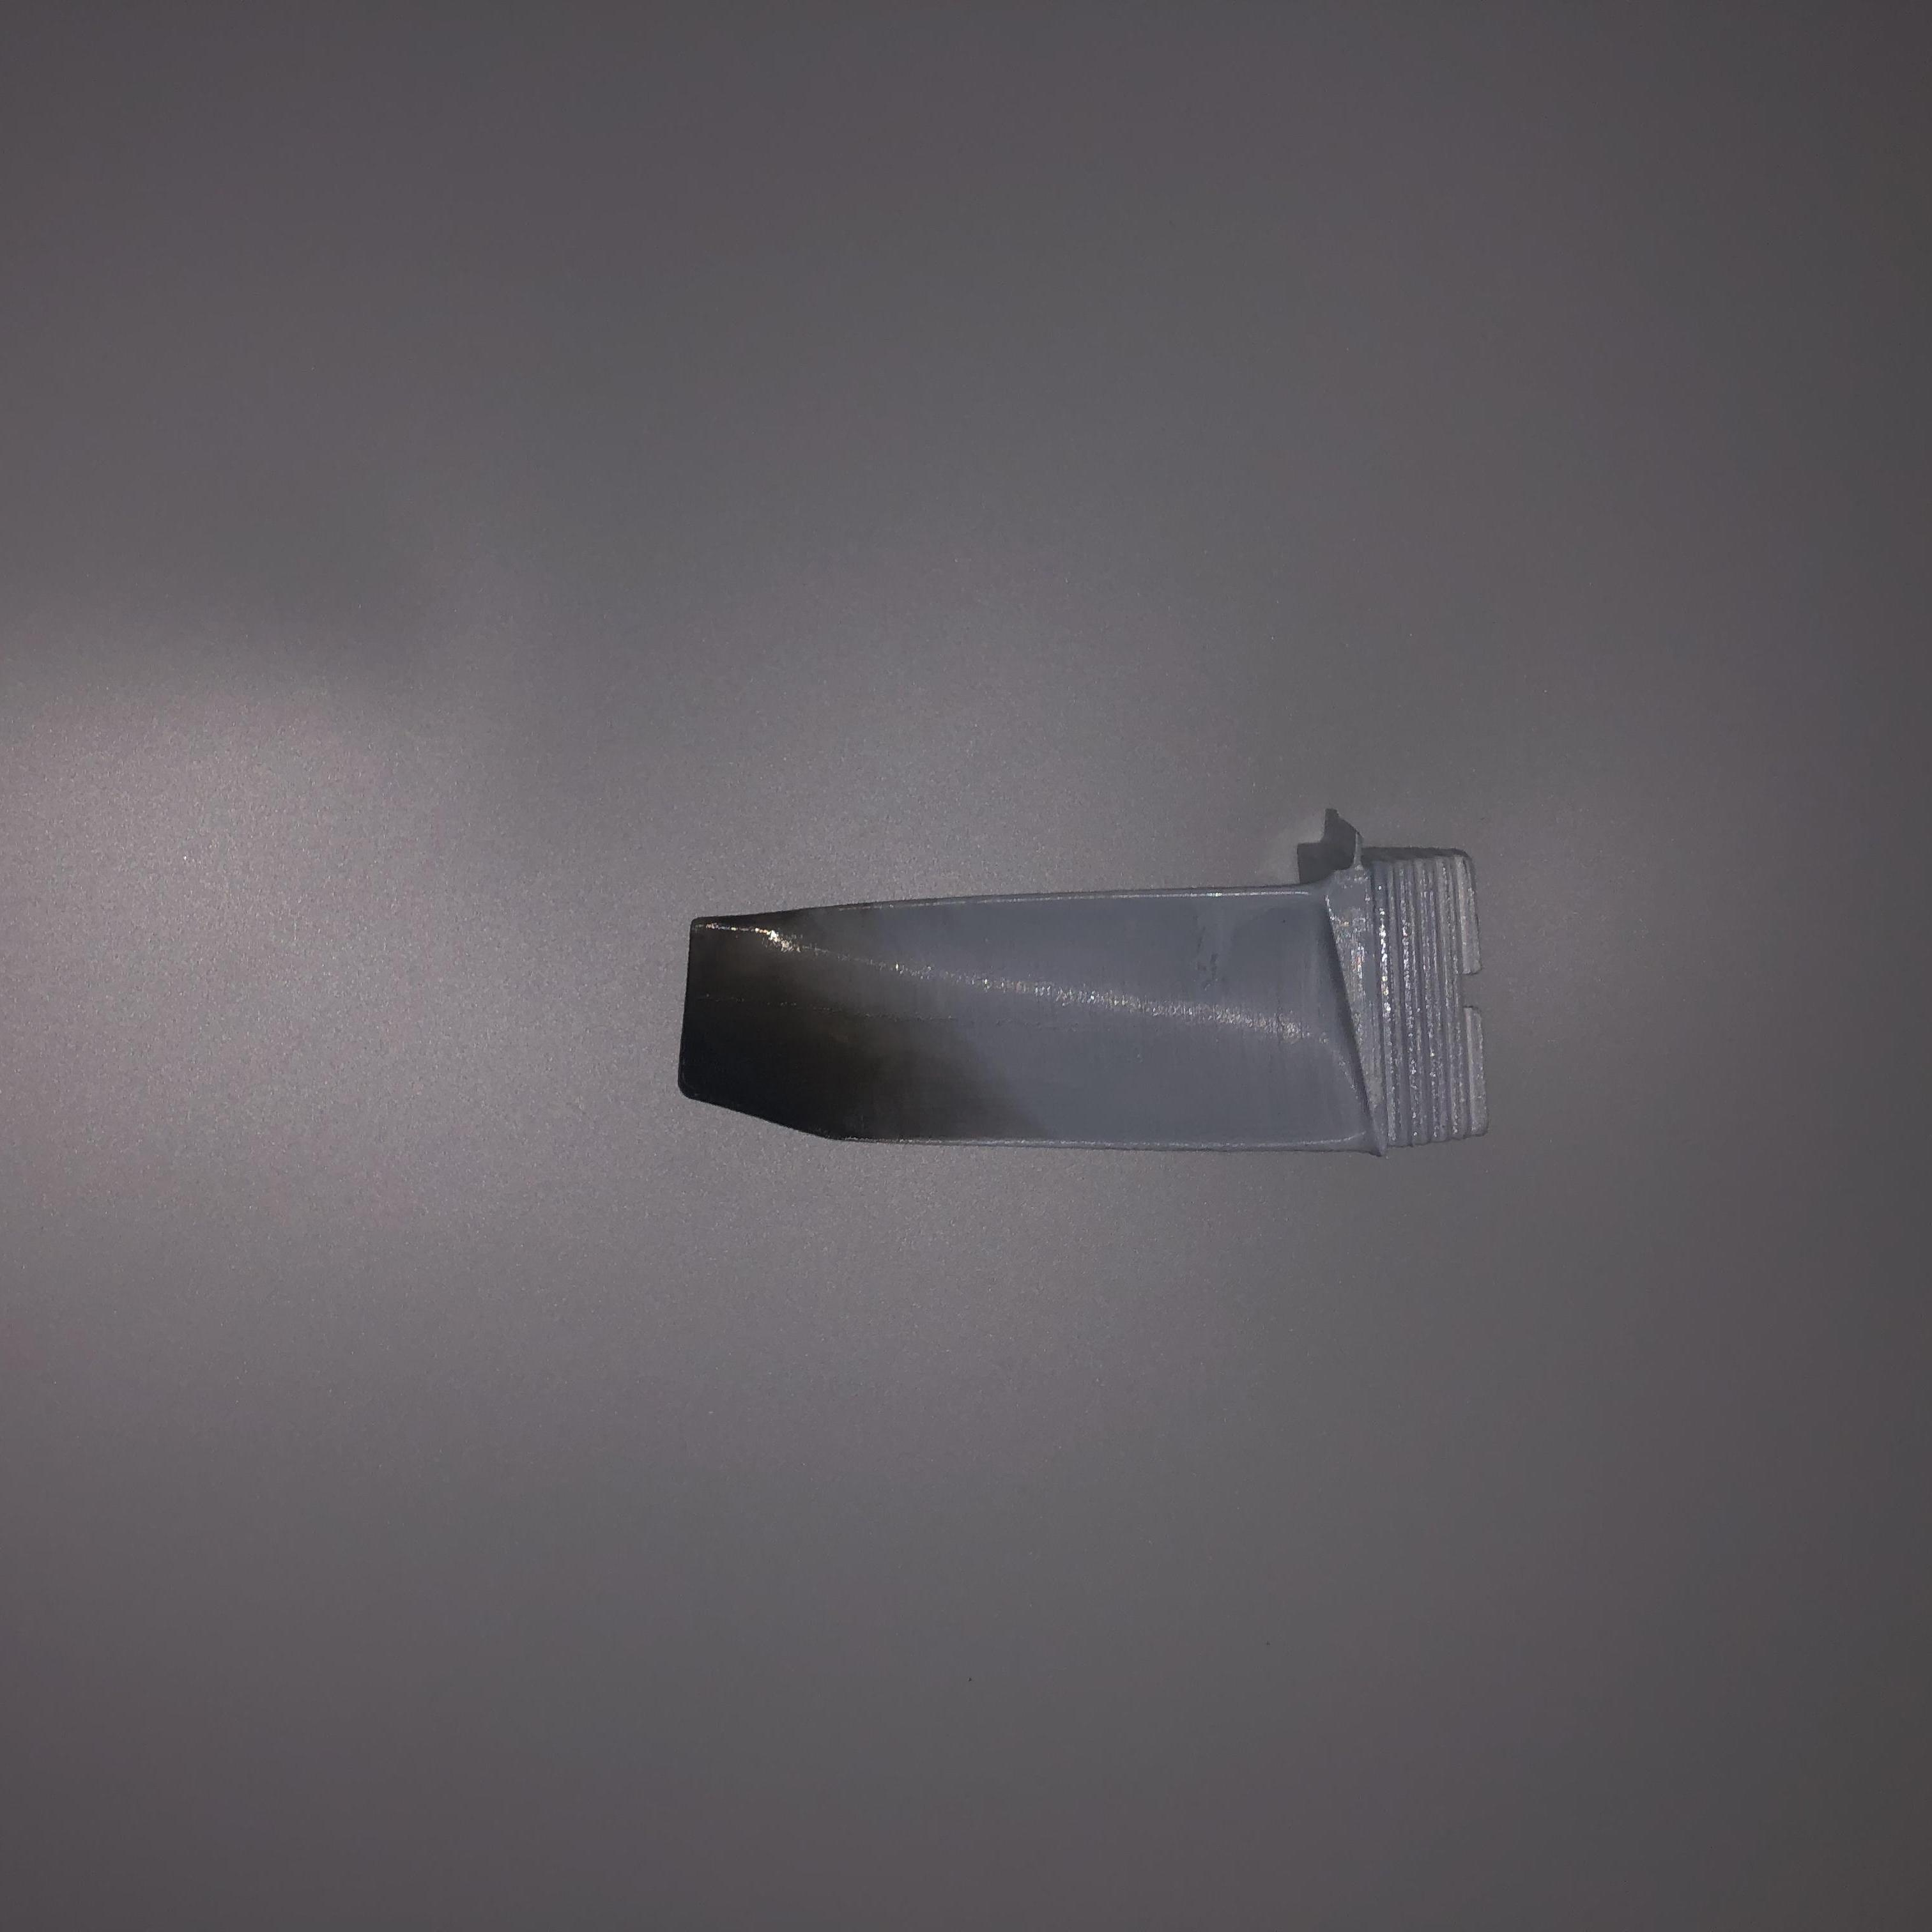ablation: (683, 911, 996, 1141)
